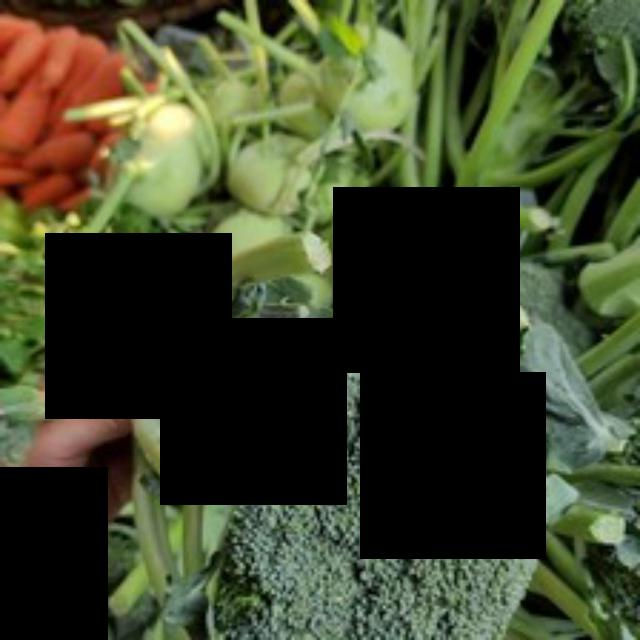broccoli: (142, 291, 560, 637)
